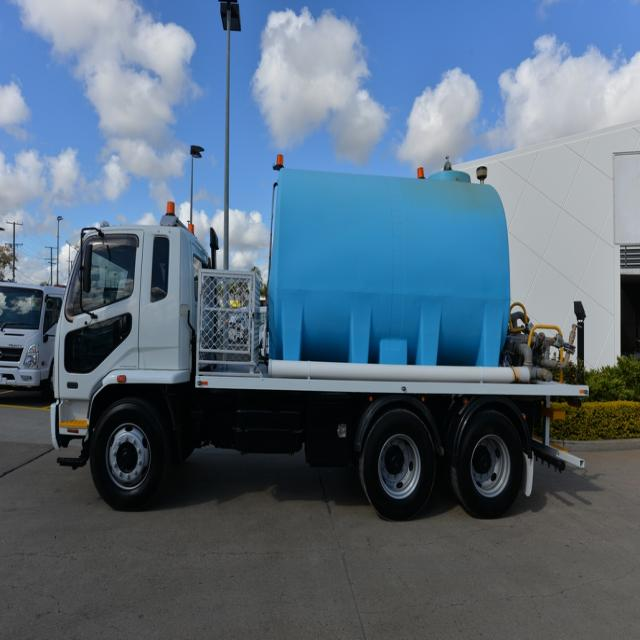truck: (48, 169, 590, 519)
